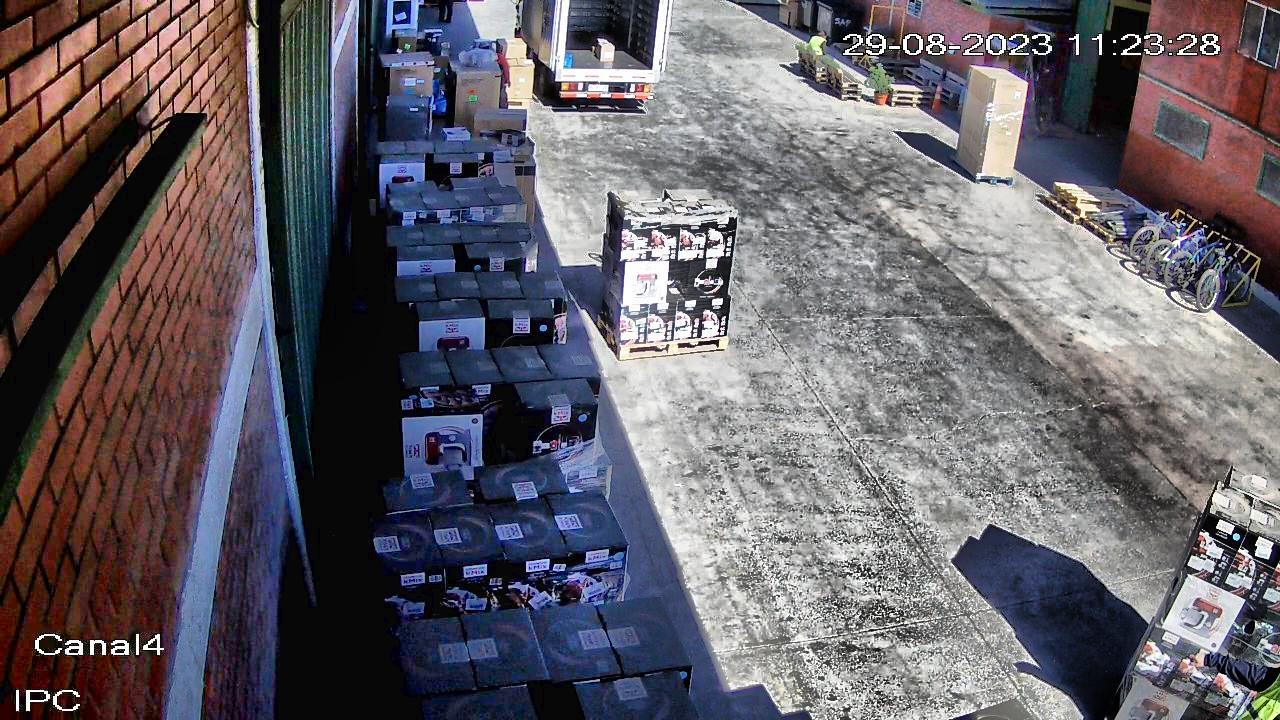con-chaleco: (807, 35, 830, 57)
persona: (476, 36, 518, 118), (802, 29, 832, 84)
sin-casco: (486, 39, 505, 56), (816, 29, 832, 42)
sin-chaleco: (476, 54, 512, 88)
